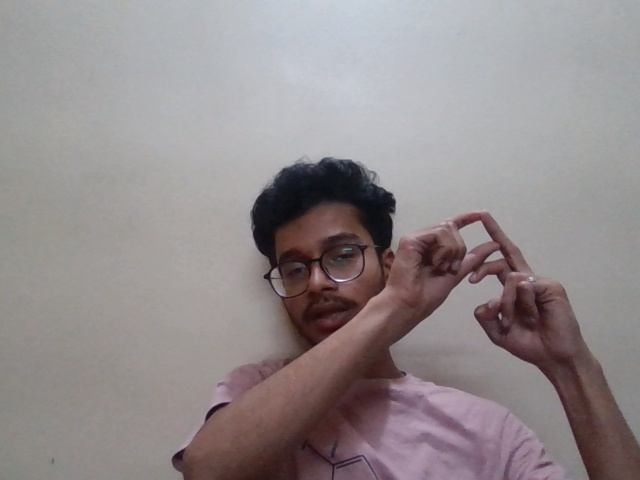R: (388, 208, 592, 381)
